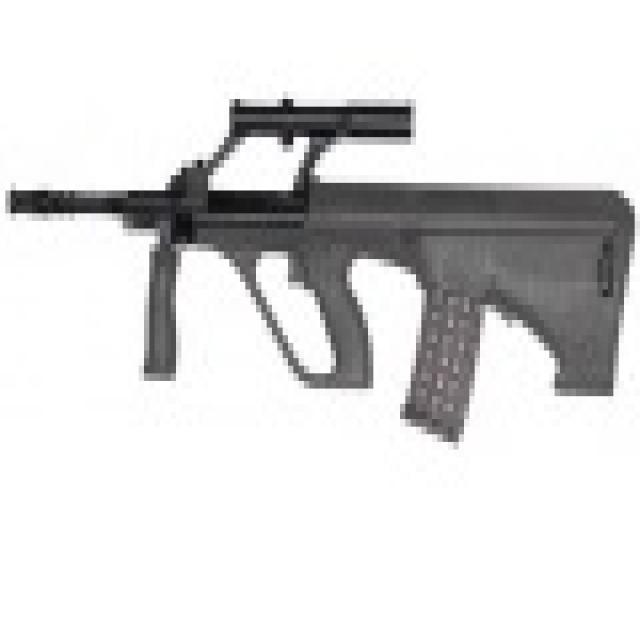Gun: (14, 100, 622, 396)
